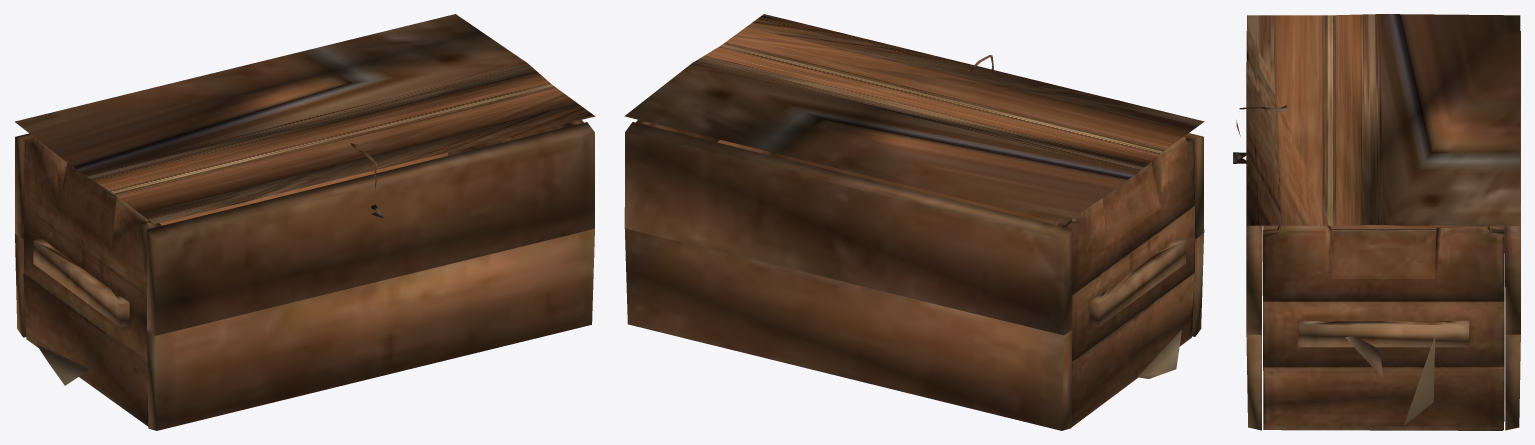
File: wooden_crate_01_lod1.glb
3 renders of one model, left to right at view 1: azimuth 30°, elevation 25°; view 2: azimuth 150°, elevation 25°; view 3: azimuth 270°, elevation 25°, orthographic. The views are drawn at different scales.
Parts seen in each view (by area): view 1: wooden_crate_01, wooden_crate_01_lid; view 2: wooden_crate_01, wooden_crate_01_lid; view 3: wooden_crate_01_lid, wooden_crate_01.
Part boxes in pixels (x1,y1,x2,y2): wooden_crate_01: (15,120,594,430); wooden_crate_01_lid: (15,14,595,223); wooden_crate_01: (624,119,1204,430); wooden_crate_01_lid: (624,14,1204,223); wooden_crate_01_lid: (1247,14,1520,227); wooden_crate_01: (1233,31,1520,430).
Size of the model in its own units: 0.7873 by 0.3416 by 0.4043.
Materials: 1 (1 with a texture image).
